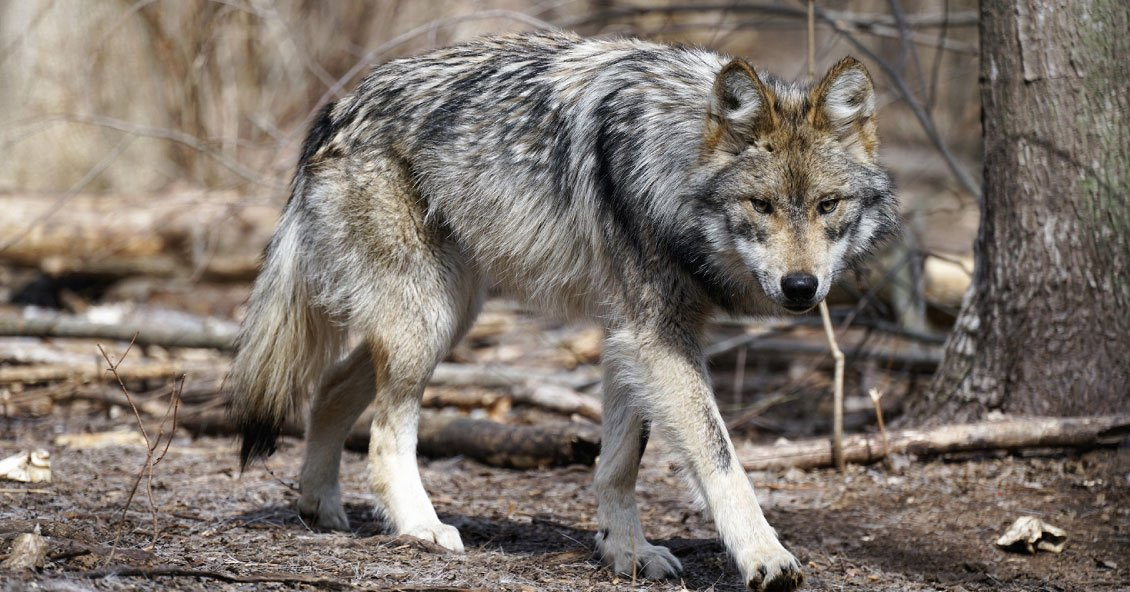Lobo: (186, 10, 924, 534)
